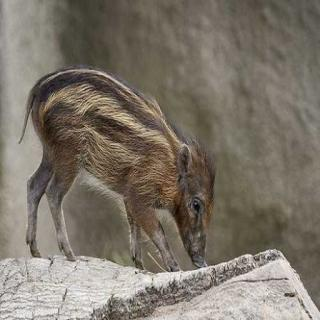Pig: (15, 56, 237, 284)
